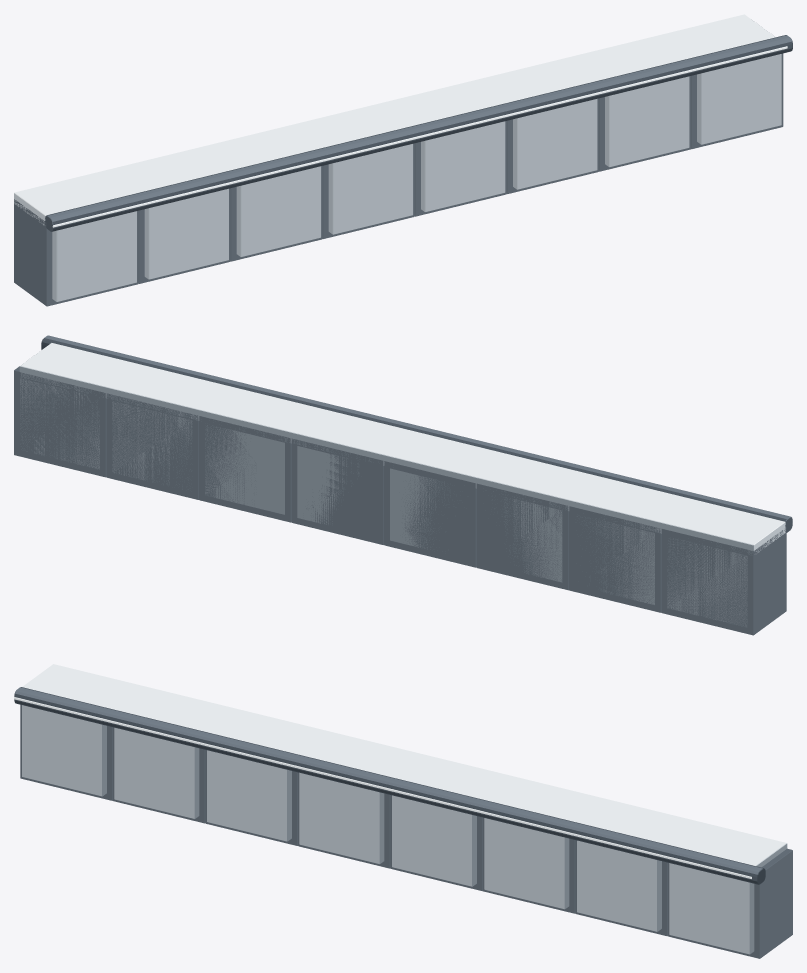
File: Terrain_TopRun8R.gltf
The picture shows the model from 3 angles, top to bottom: view 1: azimuth 30°, elevation 25°; view 2: azimuth 150°, elevation 25°; view 3: azimuth 330°, elevation 25°; orthographic projection.
Parts seen in each view (by area): view 1: Terrain_TopRun8R_baked; view 2: Terrain_TopRun8R_baked; view 3: Terrain_TopRun8R_baked.
Boxes of the visible parts, <box> form: Terrain_TopRun8R_baked: <box>14,14,792,306</box>; Terrain_TopRun8R_baked: <box>14,335,792,635</box>; Terrain_TopRun8R_baked: <box>14,664,792,958</box>.
Bounding box in the file's own units: 8.04 × 0.9495 × 0.74.
